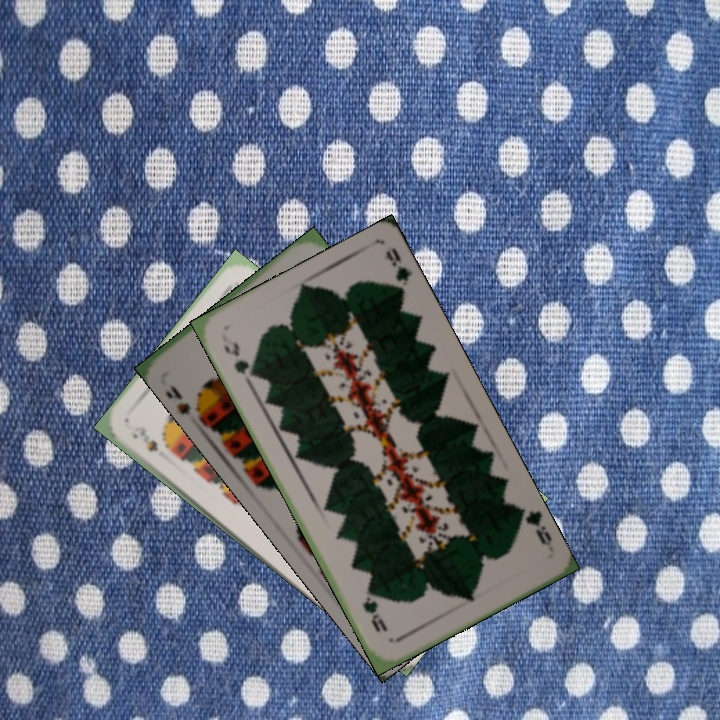G9: (515, 503, 556, 554), (220, 337, 258, 386)
S9: (162, 379, 209, 423), (127, 422, 161, 455)
